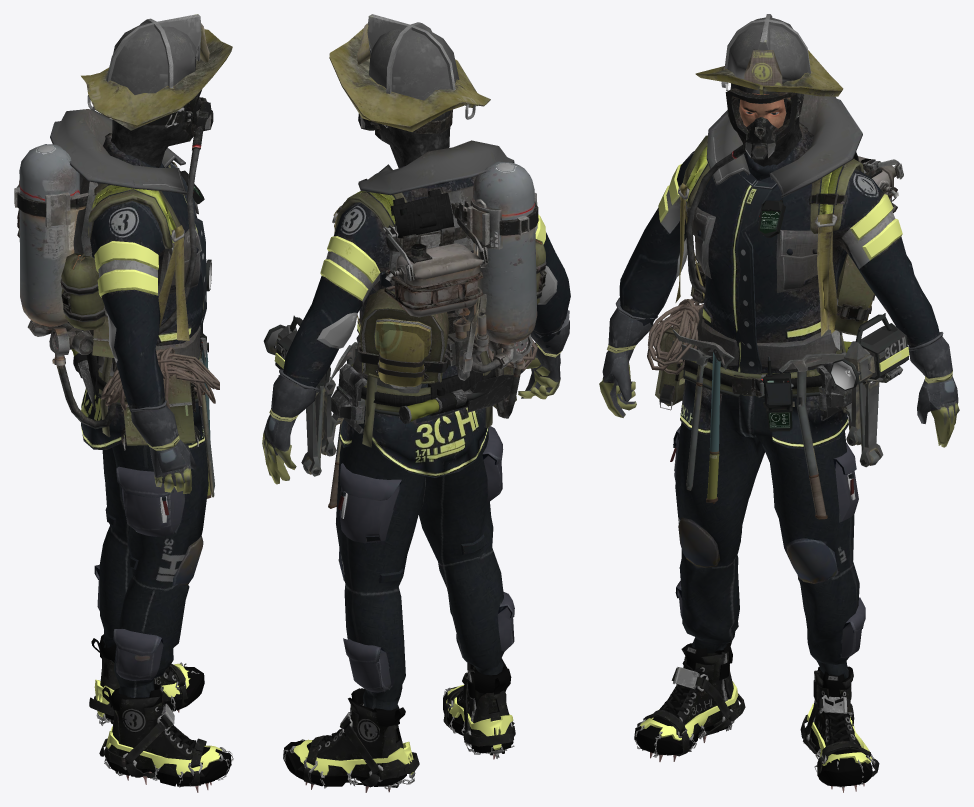
File: bombero.glb
The picture shows the model from 3 angles, left to right: view 1: azimuth 30°, elevation 25°; view 2: azimuth 150°, elevation 25°; view 3: azimuth 270°, elevation 25°; orthographic projection. The views are drawn at different scales.
Parts seen in each view (by area): view 1: centrado; view 2: centrado; view 3: centrado.
Part boxes in pixels (x1,y1,x2,y2): centrado: (14,14,233,792); centrado: (262,14,570,792); centrado: (599,14,959,792).
Bounding box in the file's own units: 0.5931 × 1.8 × 0.7929.
8 materials, 8 textured.
